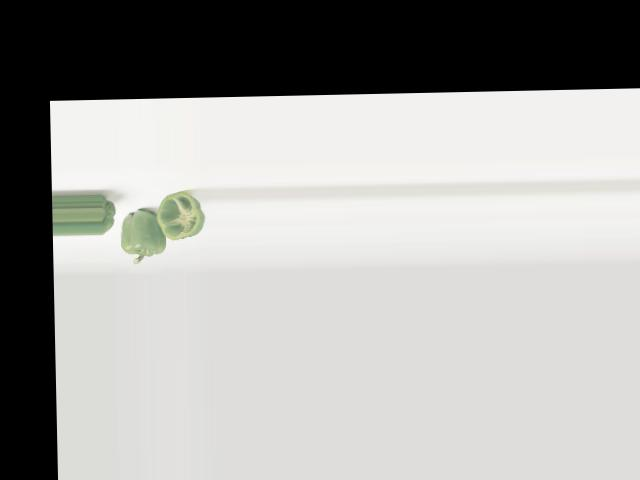bell_pepper: (153, 188, 207, 245)
